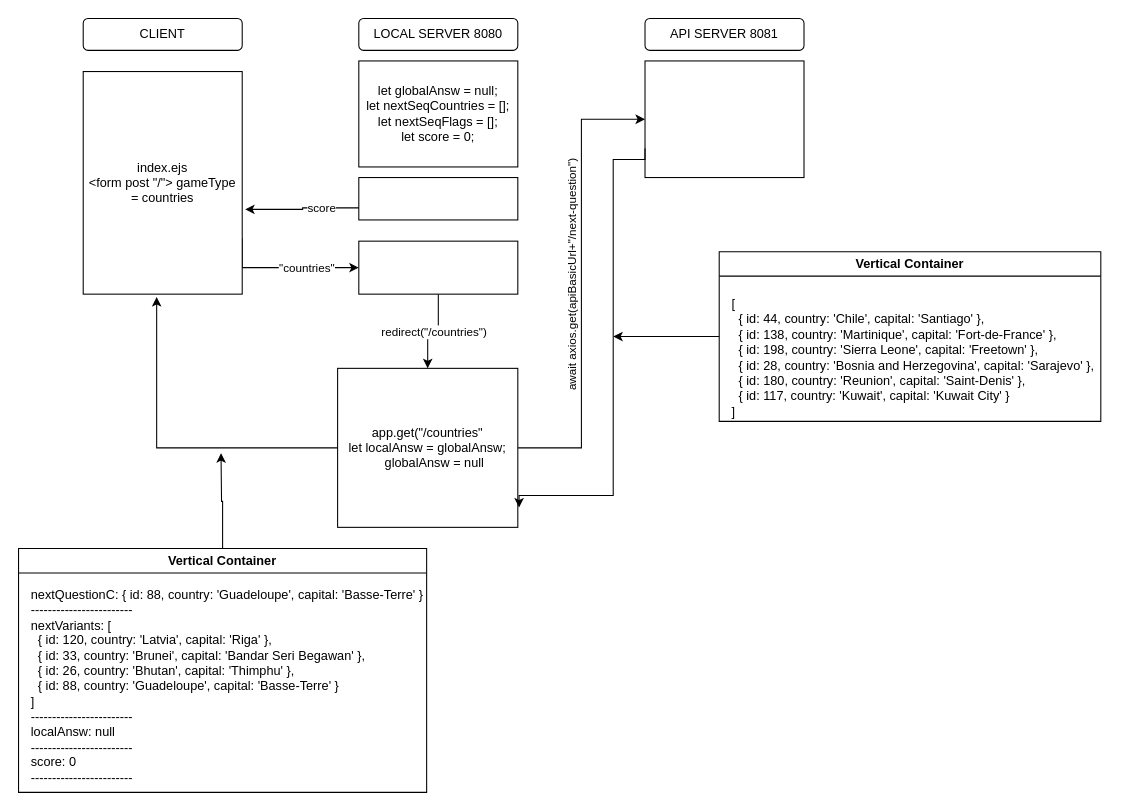
Some shapes in this 1141 by 811 pixel diagram are drawn without their labels. Each missing label, with the box of its shape:
"/next-question": (644, 60, 804, 178)
app.get("/"): (358, 176, 518, 220)
app.post("/"): (358, 240, 518, 294)
